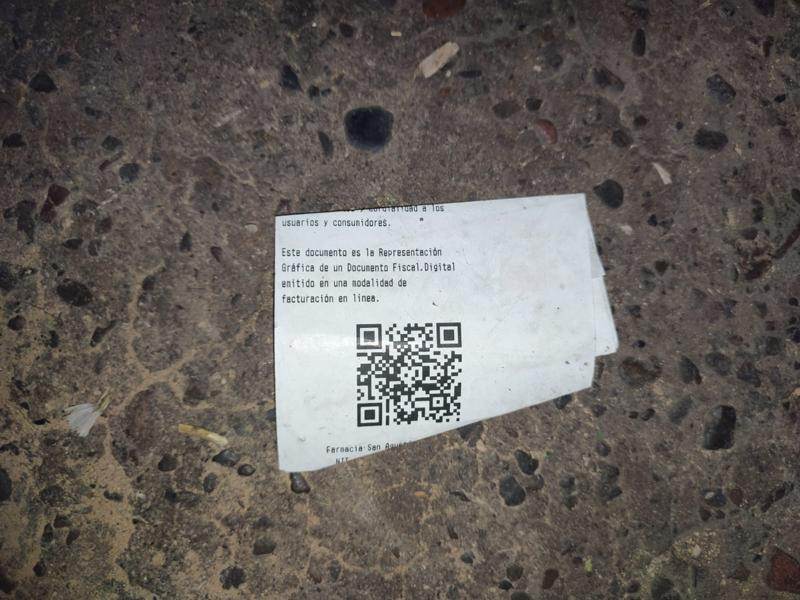papel: (272, 193, 619, 477)
